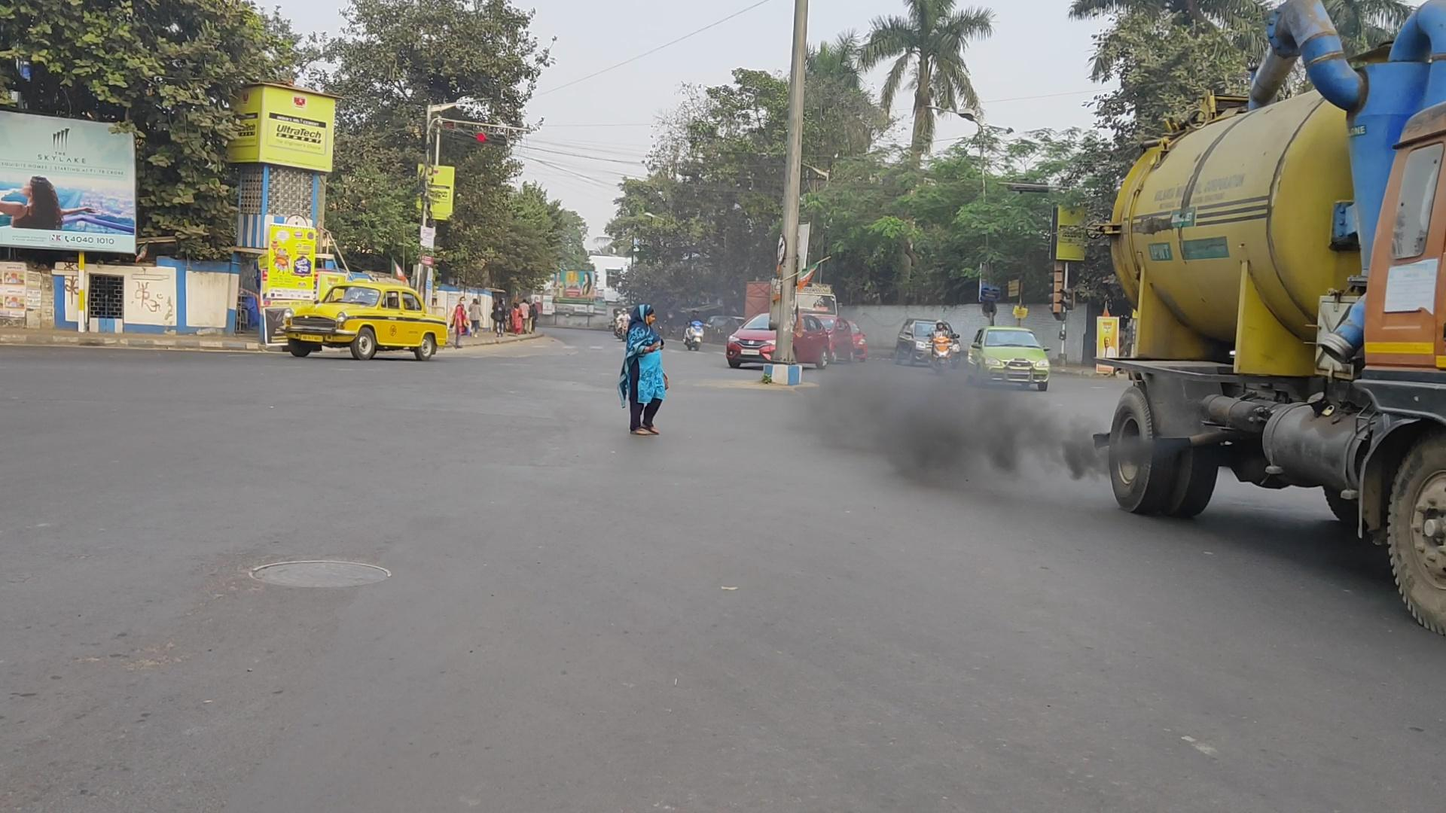bike: (929, 319, 960, 378), (684, 308, 706, 354)
car: (282, 278, 448, 362), (727, 310, 830, 371), (967, 325, 1051, 393), (895, 318, 962, 368), (819, 313, 855, 364)
truck: (1090, 2, 1446, 636), (743, 281, 837, 355)
